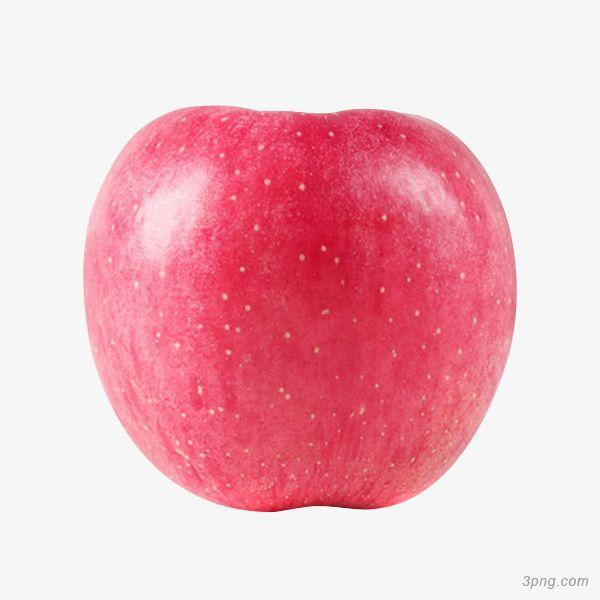apple: (80, 96, 516, 514)
